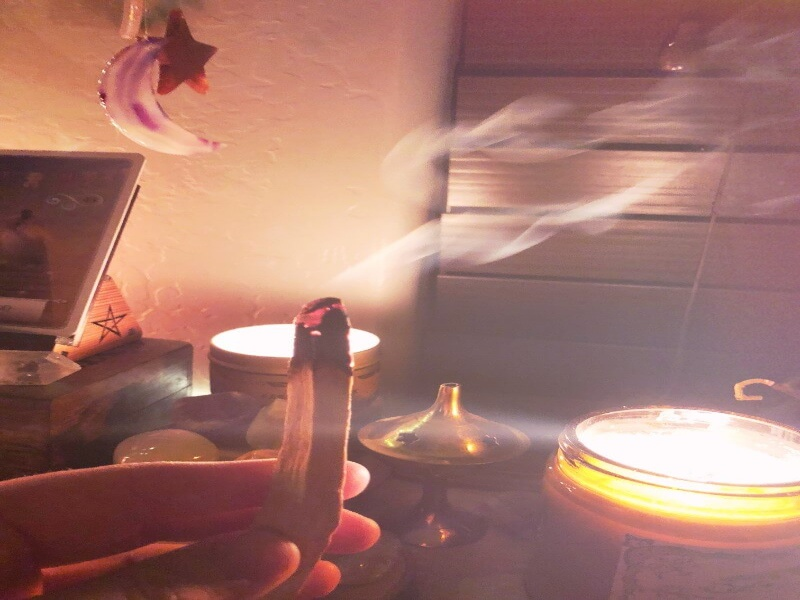smoke: (353, 132, 652, 273)
